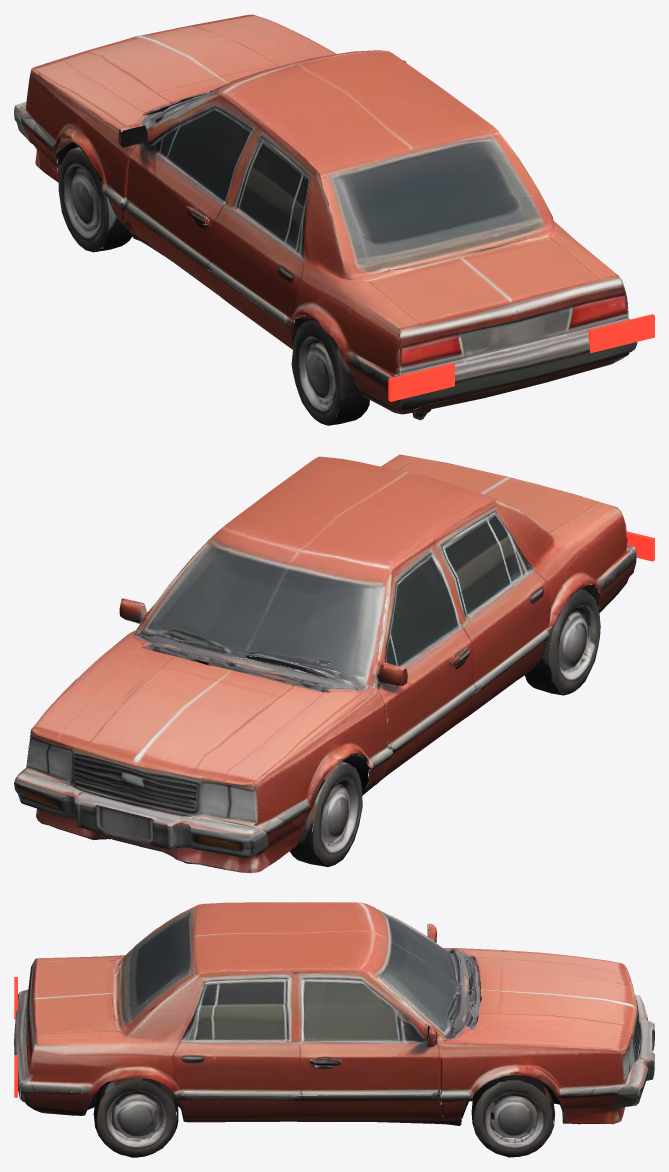
3 renders of one model, top to bottom at view 1: azimuth 30°, elevation 25°; view 2: azimuth 150°, elevation 25°; view 3: azimuth 270°, elevation 25°, orthographic. The views are drawn at different scales.
Visible parts, largest first — view 1: PaintShell, TrimShell, wheel_rl, wheel_fl, BrakeLightsLeft, BrakeLightsRight; view 2: PaintShell, TrimShell, wheel_fl, wheel_rl; view 3: PaintShell, TrimShell, wheel_rr, wheel_fr.
Part boxes in pixels (x1=…): PaintShell: x1=17, y1=14, x2=629, y2=414; TrimShell: x1=14, y1=61, x2=637, y2=424; wheel_rl: x1=283, y1=306, x2=369, y2=425; wheel_fl: x1=44, y1=129, x2=107, y2=250; BrakeLightsLeft: x1=388, y1=363, x2=454, y2=401; BrakeLightsRight: x1=588, y1=314, x2=654, y2=352; PaintShell: x1=14, y1=454, x2=636, y2=872; TrimShell: x1=14, y1=513, x2=636, y2=872; wheel_fl: x1=284, y1=760, x2=362, y2=866; wheel_rl: x1=524, y1=584, x2=600, y2=695; PaintShell: x1=22, y1=902, x2=654, y2=1125; TrimShell: x1=14, y1=910, x2=654, y2=1155; wheel_rr: x1=92, y1=1072, x2=189, y2=1157; wheel_fr: x1=473, y1=1071, x2=587, y2=1157.
Bounding box in the file's own units: 1.92 × 1.42 × 4.65.
Materials: 2 (1 with a texture image).
